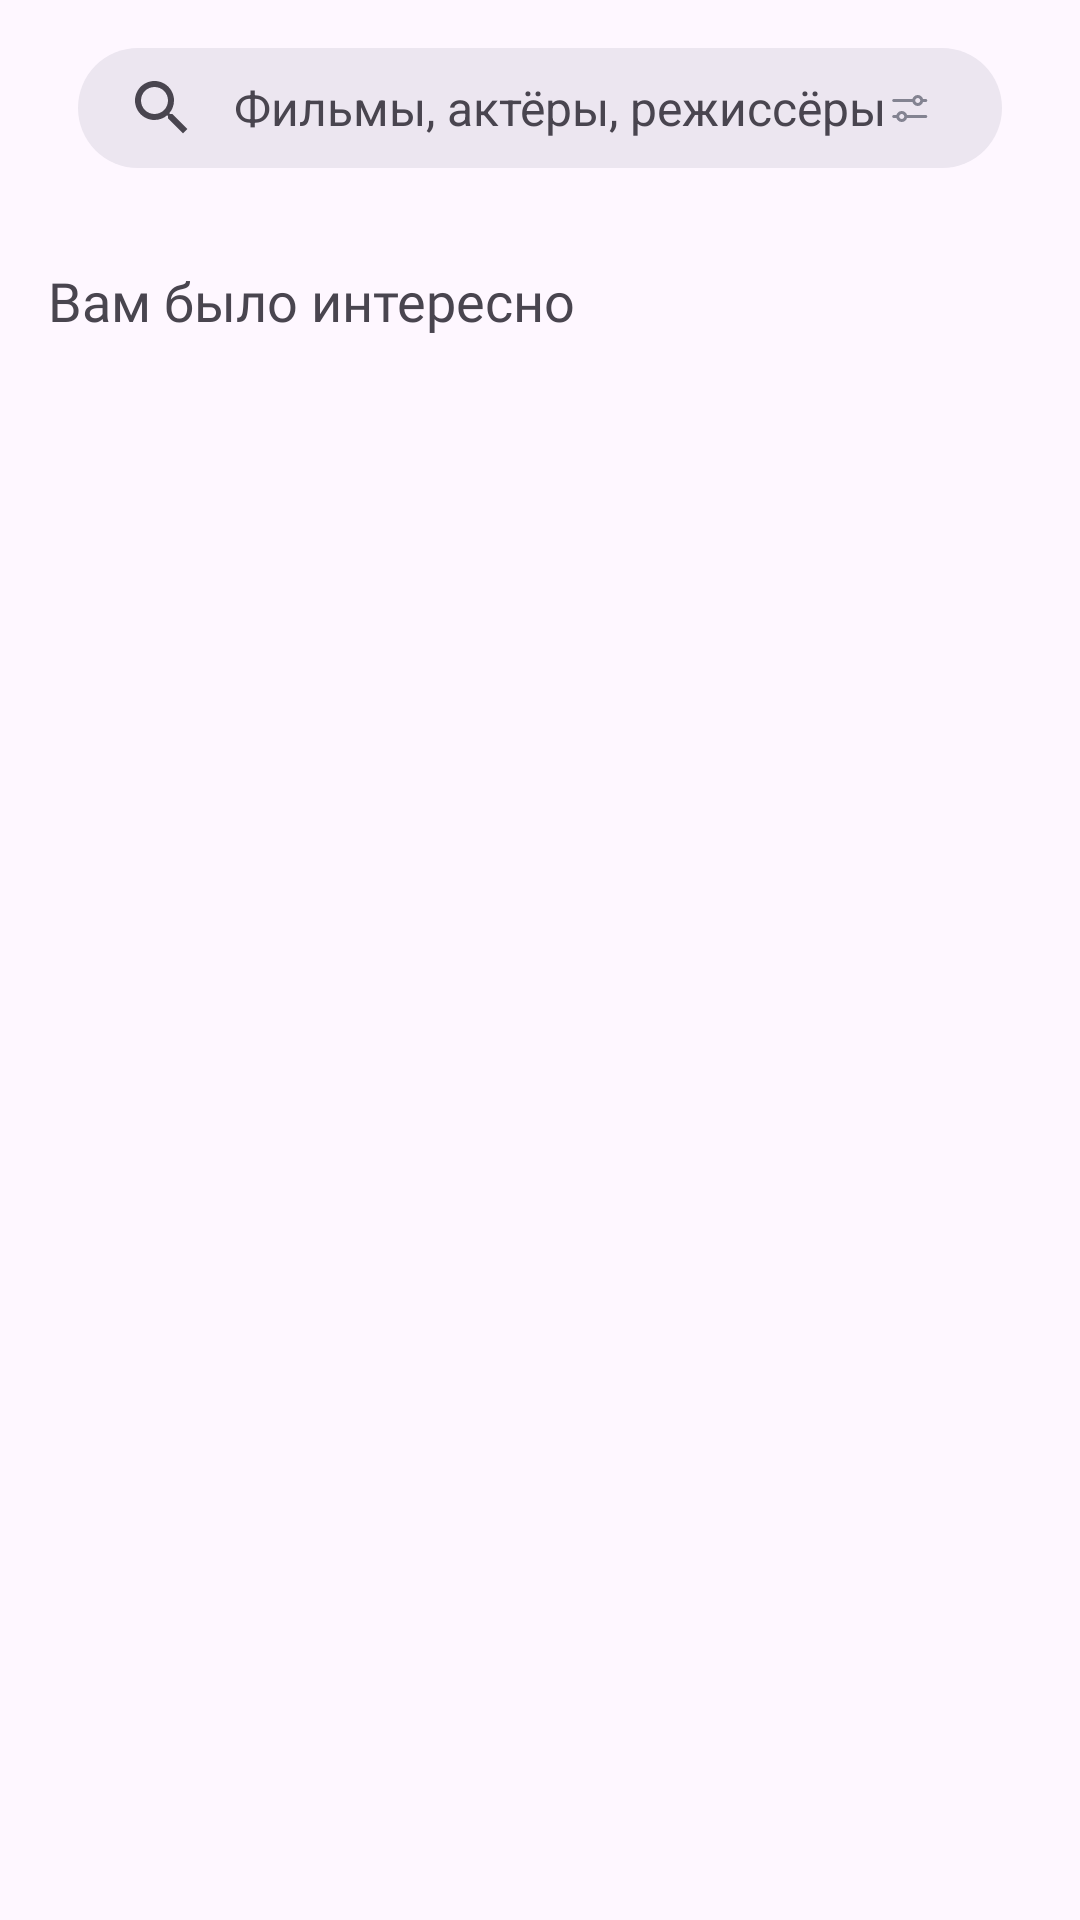

Where to tap for icons on this 1080*1920 app screen, as point (x, y):
iconoptions: point (902, 110)
